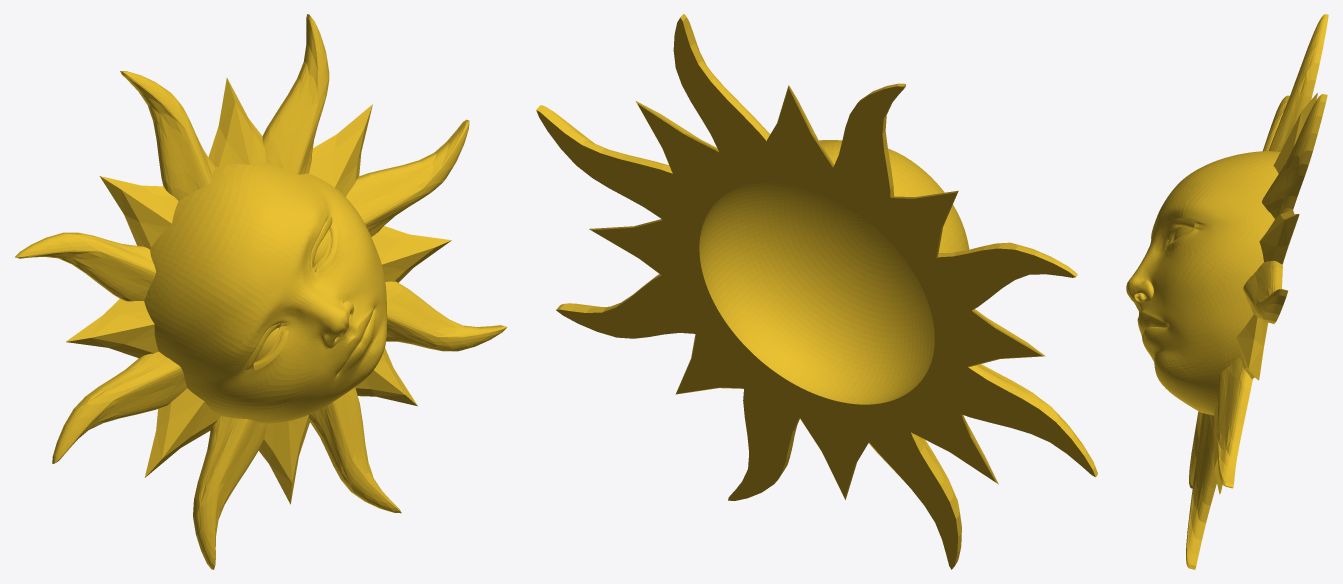
Rendered from sundraw.glb.
3 renders of one model, left to right at view 1: azimuth 30°, elevation 25°; view 2: azimuth 150°, elevation 25°; view 3: azimuth 270°, elevation 25°, orthographic. The views are drawn at different scales.
Parts seen in each view (by area): view 1: sunfacedecoration; view 2: sunfacedecoration; view 3: sunfacedecoration.
Part boxes in pixels (x1,y1,x2,y2): sunfacedecoration: (15,14,507,569); sunfacedecoration: (536,14,1097,569); sunfacedecoration: (1126,14,1328,569).
Size of the model in its own units: 119 by 115 by 44.55.
